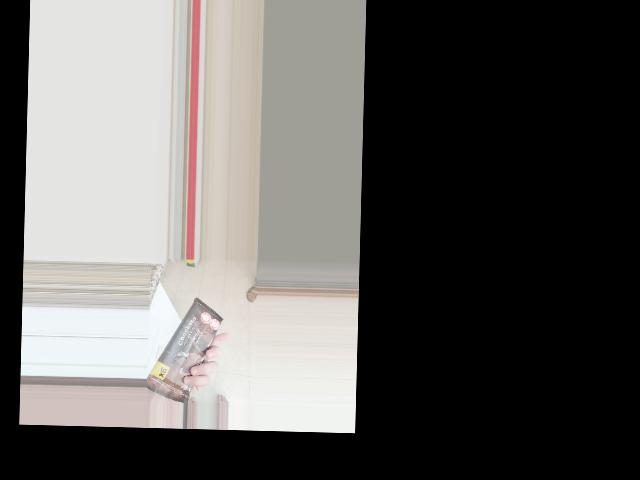chocolate: (145, 292, 222, 396)
